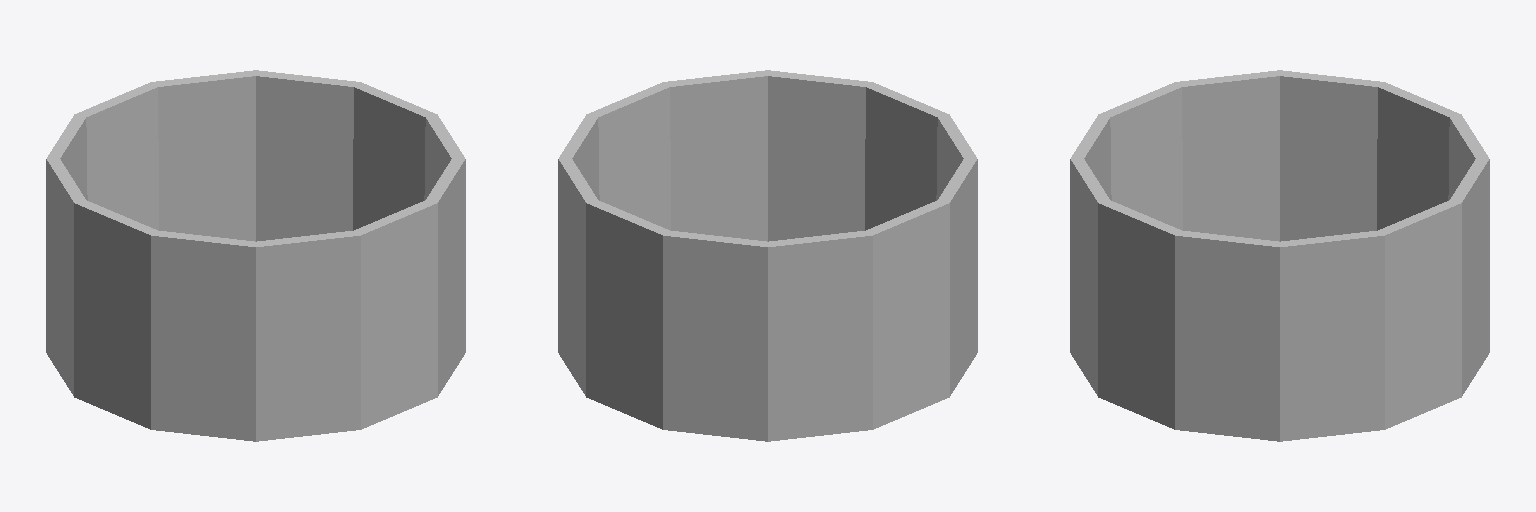
The model's file is area.obj.
3 renders of one model, left to right at view 1: azimuth 30°, elevation 25°; view 2: azimuth 150°, elevation 25°; view 3: azimuth 270°, elevation 25°, orthographic.
Visible parts, largest first — view 1: Cylinder; view 2: Cylinder; view 3: Cylinder.
Part boxes in pixels (x1,y1,x2,y2): Cylinder: (46,70,465,441); Cylinder: (558,70,977,441); Cylinder: (1070,70,1489,441).
Bounding box in the file's own units: 2 × 1.02 × 2.